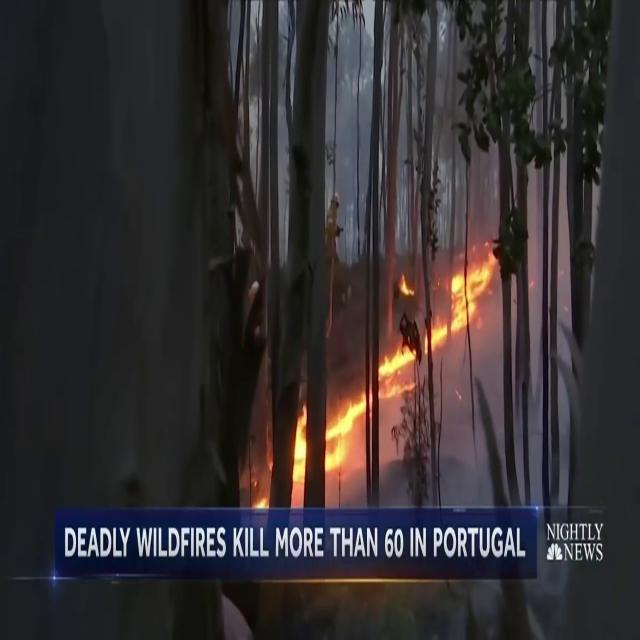Fire: (432, 242, 496, 342), (323, 384, 366, 476), (379, 337, 417, 390), (290, 398, 310, 494)
